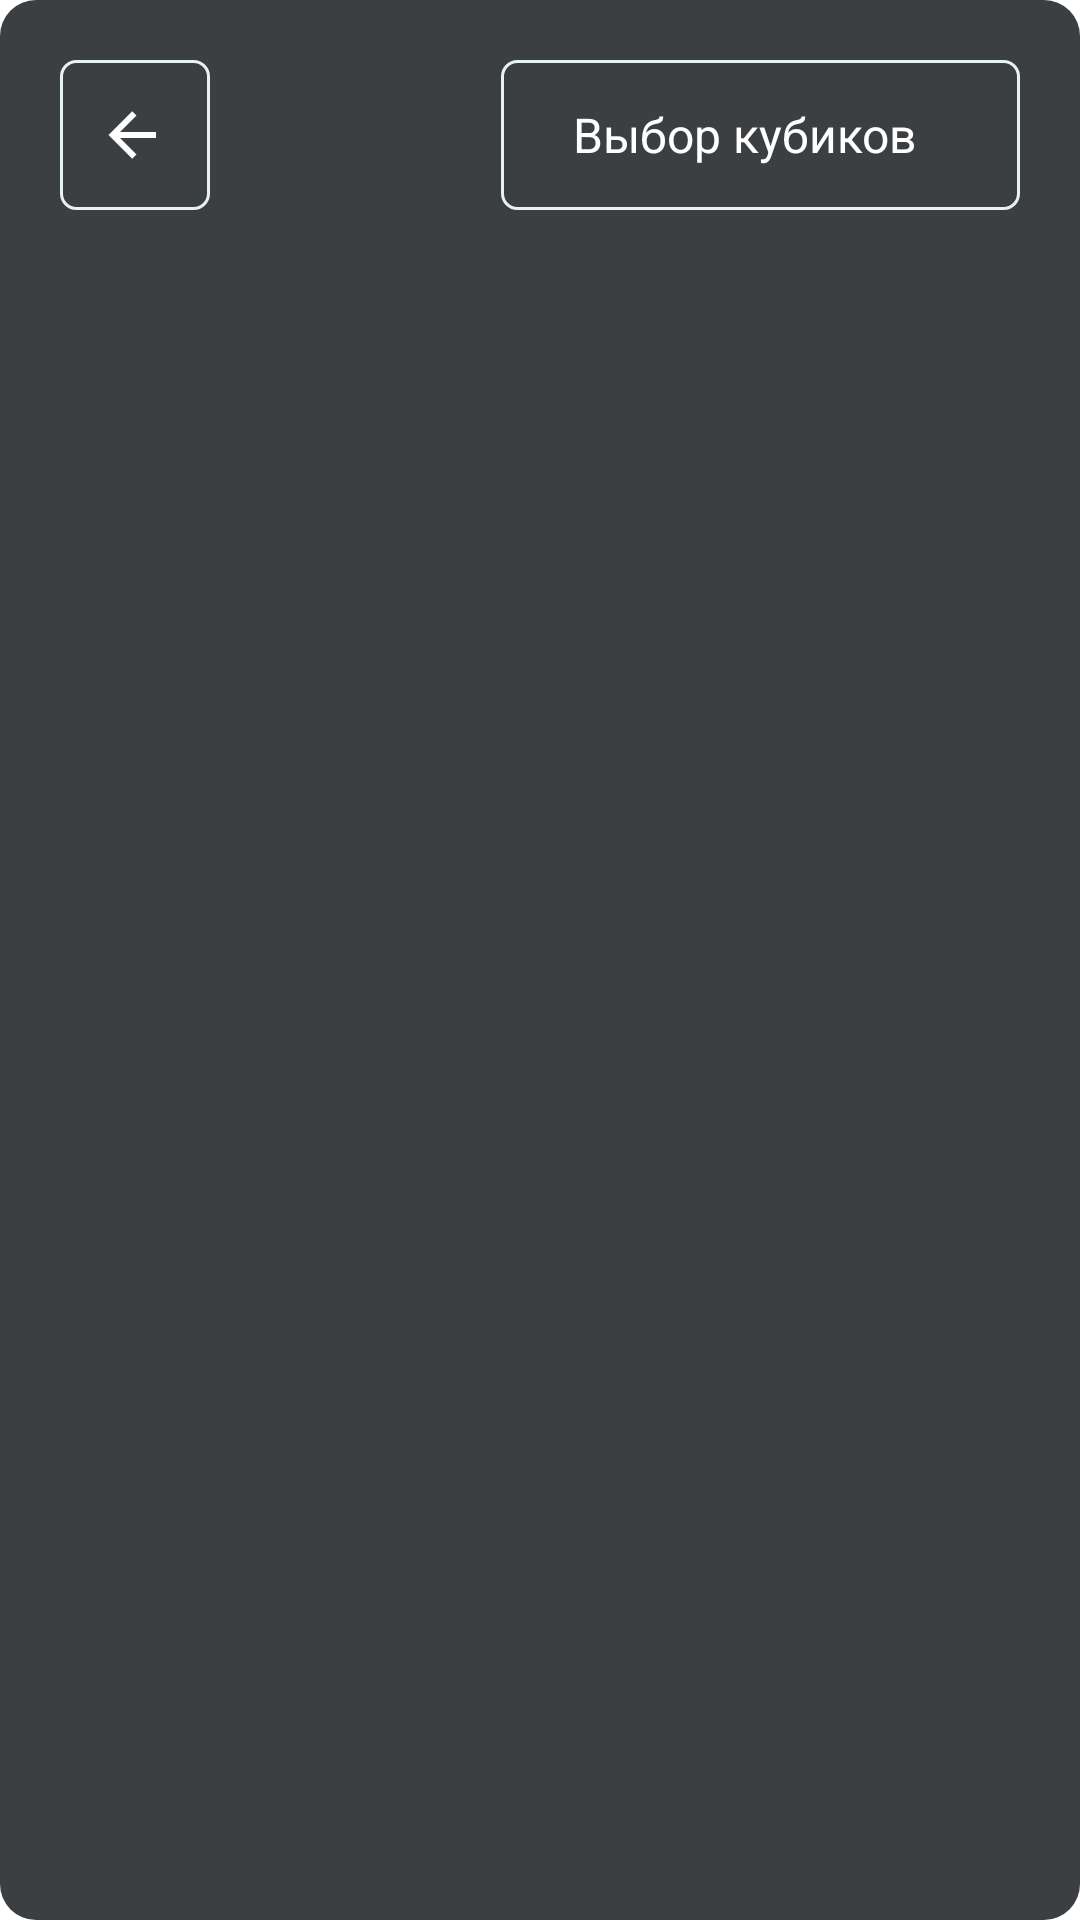

Screen size 1080×1920. Icon name, then its center in pixels as (x,y):
arrow left: (132,135)
